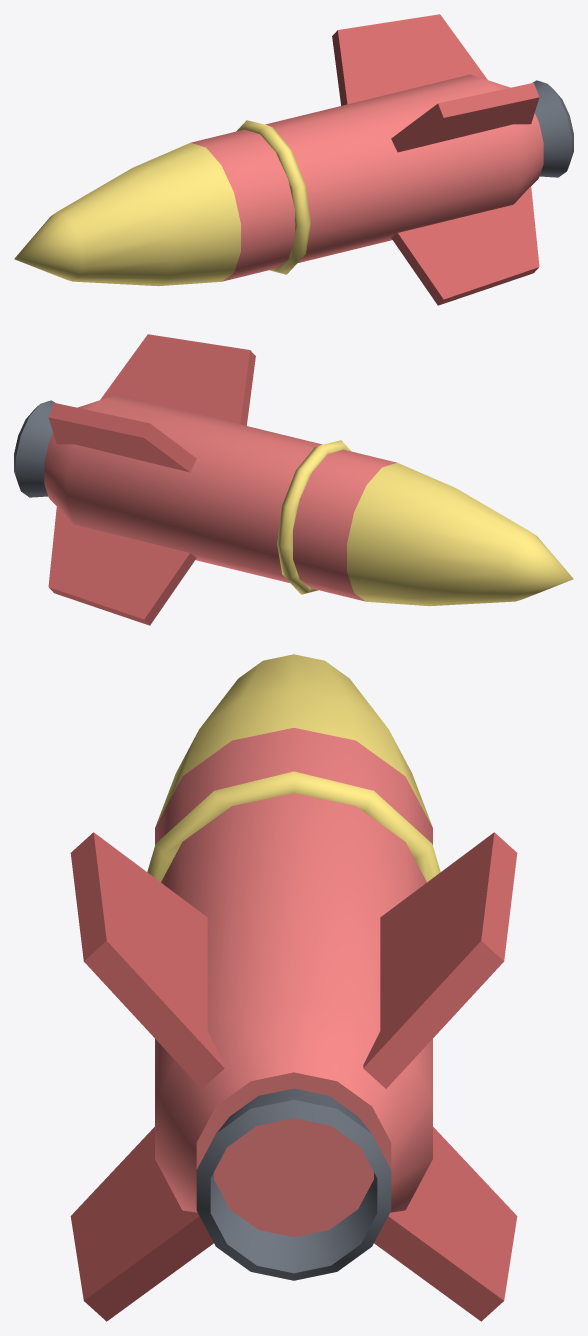
The model's file is ClusterRocket.fbx.
3 views of the same model, one above another, from view 1: azimuth 30°, elevation 25°; view 2: azimuth 150°, elevation 25°; view 3: azimuth 270°, elevation 25° (orthographic). The views are drawn at different scales.
Visible parts, largest first — view 1: rocket_cluster; view 2: rocket_cluster; view 3: rocket_cluster.
Part boxes in pixels (left/top/right/bottom): rocket_cluster: left=14, top=14, right=573, bottom=305; rocket_cluster: left=14, top=334, right=573, bottom=625; rocket_cluster: left=70, top=654, right=517, bottom=1321.
Bounding box in the file's own units: 0.96 × 0.3444 × 0.3444.
